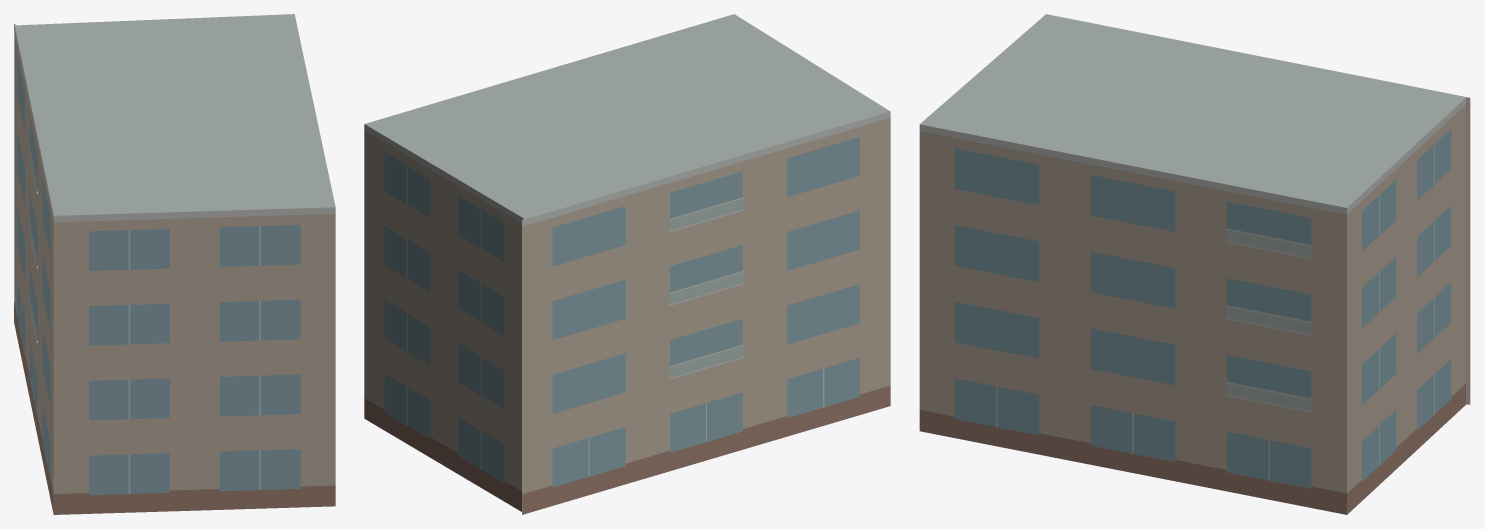
Rendered from survey-upis-33042673.glb.
3 renders of one model, left to right at view 1: azimuth 30°, elevation 25°; view 2: azimuth 150°, elevation 25°; view 3: azimuth 270°, elevation 25°, orthographic. The views are drawn at different scales.
Visible parts, largest first — view 1: survey-upis-33042673.tmp; view 2: survey-upis-33042673.tmp; view 3: survey-upis-33042673.tmp.
Boxes of the visible parts, bbox=[...] form: survey-upis-33042673.tmp: bbox=[14, 14, 335, 514]; survey-upis-33042673.tmp: bbox=[364, 14, 890, 514]; survey-upis-33042673.tmp: bbox=[919, 14, 1470, 514].
Size of the model in its own units: 15.2 by 11.2 by 18.23.
